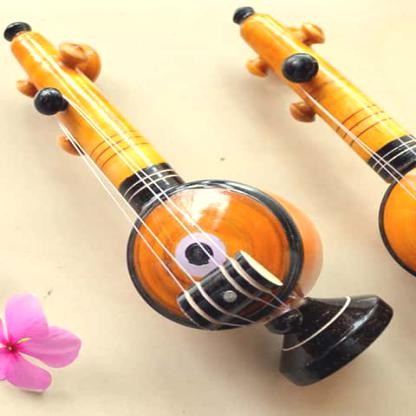Veena: (65, 85, 361, 386)
